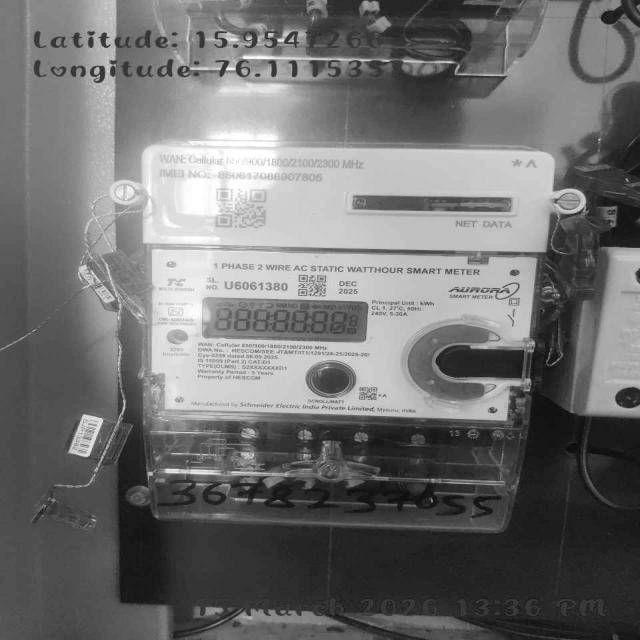meter: (142, 142, 554, 424)
